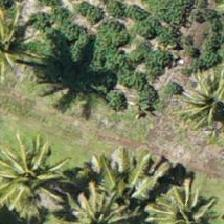coconut_tree: (0, 139, 66, 223), (166, 56, 223, 146), (146, 174, 223, 223)
